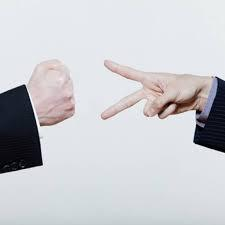rock: (22, 49, 82, 131)
scissors: (97, 52, 198, 124)
